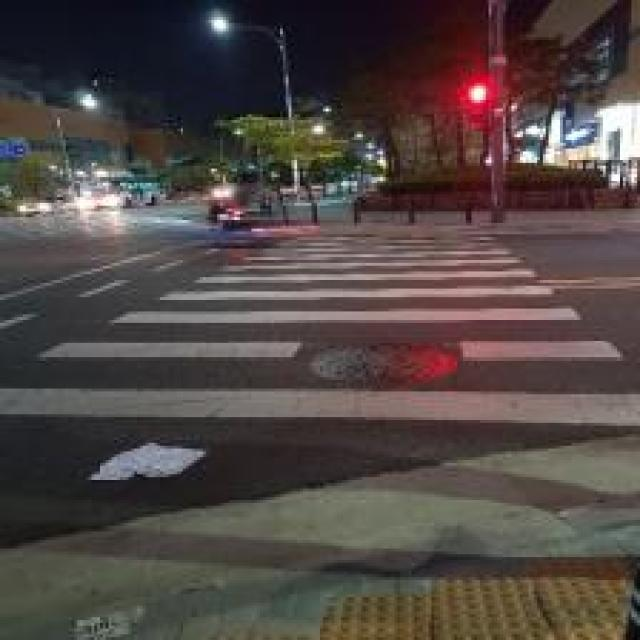crosswalk: (1, 210, 637, 394)
